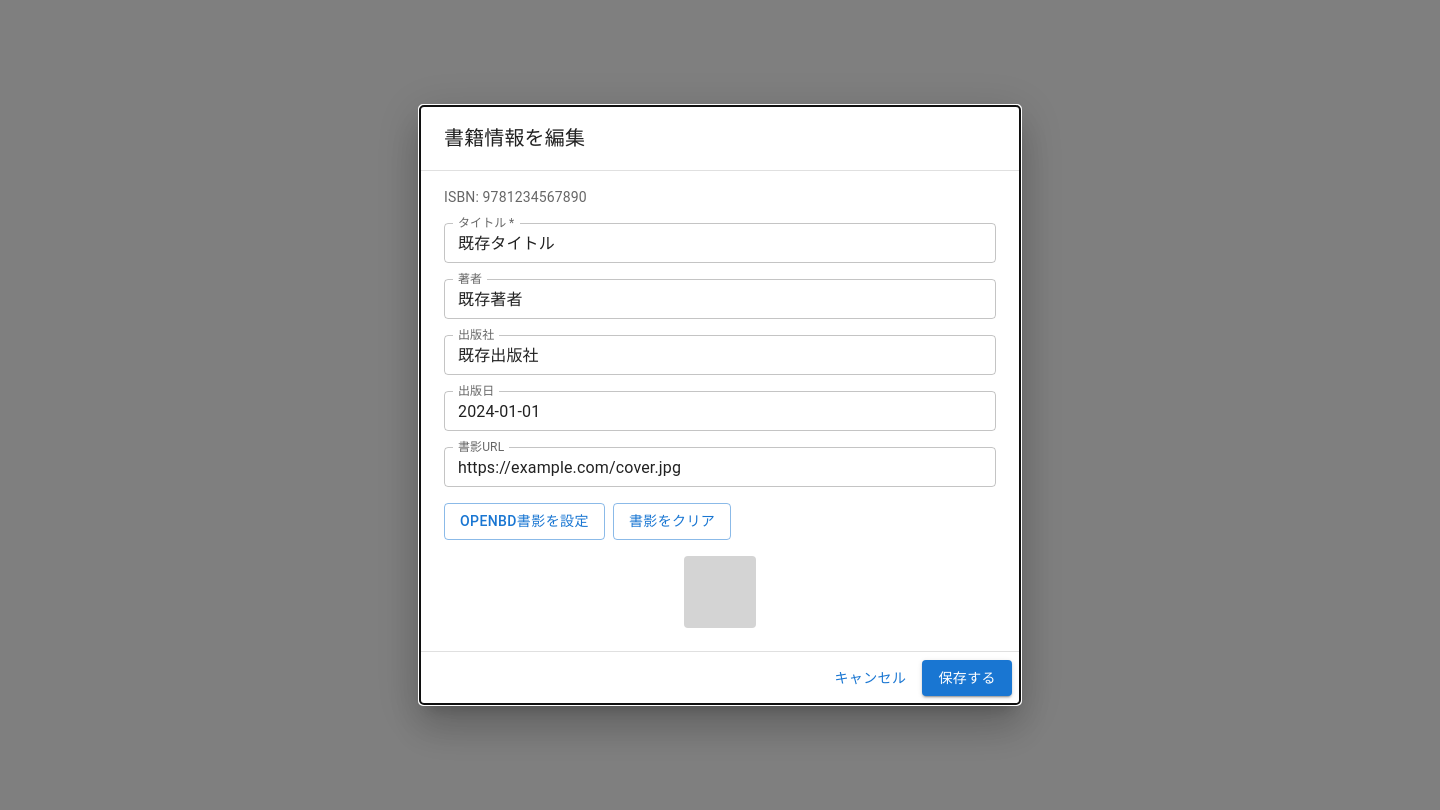
Test: BookEditDialog › shows error when openBD cover is not found
Click the button with test id "book-edit-fetch-cover-button". click: (524, 521)
box: x1=444 y1=503 x2=605 y2=540
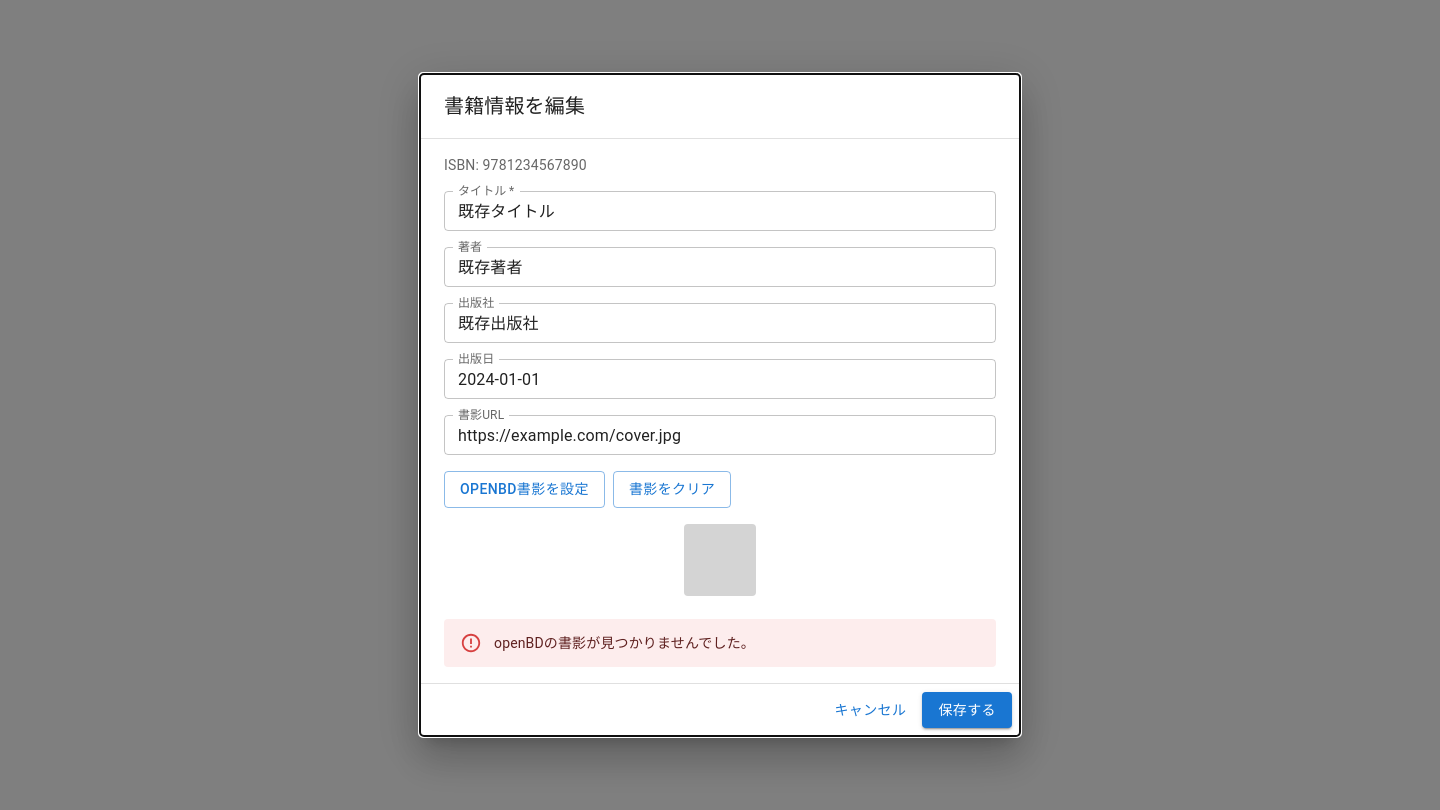
Now the message with test id "book-edit-error" reads "openBDの書影が見つかりませんでした。", box x1=494 y1=634 x2=755 y2=650
